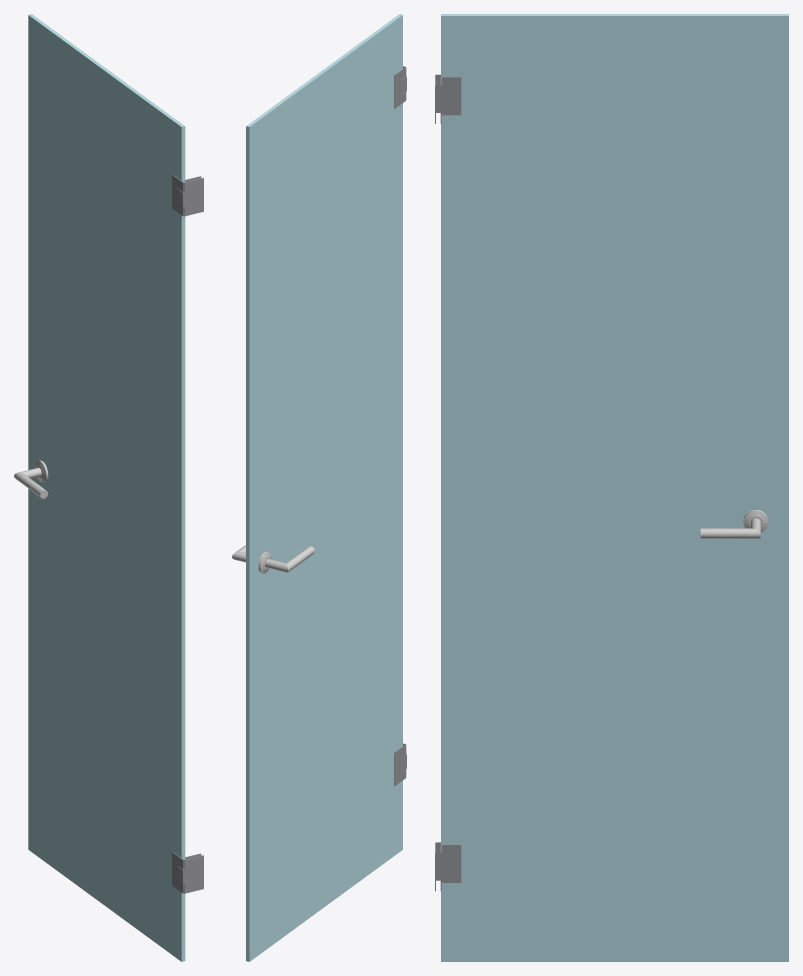
Rendered from Tuere_WC.glb.
3 renders of one model, left to right at view 1: azimuth 30°, elevation 25°; view 2: azimuth 150°, elevation 25°; view 3: azimuth 270°, elevation 25°, orthographic. The views are drawn at different scales.
Parts seen in each view (by area): view 1: Mesh1 Component_204 G_24_T_re_WC_dwg1 Model, Mesh13 Component_216 G_24_T_re_WC_dwg1 Model, Mesh9 Component_212 G_24_T_re_WC_dwg1 Model, Mesh4 Component_207 G_24_T_re_WC_dwg1 Model; view 2: Mesh1 Component_204 G_24_T_re_WC_dwg1 Model, Mesh13 Component_216 G_24_T_re_WC_dwg1 Model; view 3: Mesh1 Component_204 G_24_T_re_WC_dwg1 Model, Mesh12 Component_215 G_24_T_re_WC_dwg1 Model, Mesh5 Component_208 G_24_T_re_WC_dwg1 Model, Mesh10 Component_213 G_24_T_re_WC_dwg1 Model.
Part boxes in pixels (x1=…): Mesh1 Component_204 G_24_T_re_WC_dwg1 Model: x1=28, y1=14, x2=185, y2=961; Mesh13 Component_216 G_24_T_re_WC_dwg1 Model: x1=14, y1=460, x2=48, y2=498; Mesh9 Component_212 G_24_T_re_WC_dwg1 Model: x1=184, y1=178, x2=203, y2=216; Mesh4 Component_207 G_24_T_re_WC_dwg1 Model: x1=184, y1=855, x2=203, y2=893; Mesh1 Component_204 G_24_T_re_WC_dwg1 Model: x1=246, y1=14, x2=402, y2=961; Mesh13 Component_216 G_24_T_re_WC_dwg1 Model: x1=258, y1=546, x2=314, y2=573; Mesh1 Component_204 G_24_T_re_WC_dwg1 Model: x1=441, y1=14, x2=788, y2=961; Mesh12 Component_215 G_24_T_re_WC_dwg1 Model: x1=700, y1=510, x2=768, y2=538; Mesh5 Component_208 G_24_T_re_WC_dwg1 Model: x1=441, y1=844, x2=461, y2=882; Mesh10 Component_213 G_24_T_re_WC_dwg1 Model: x1=441, y1=77, x2=461, y2=115.
Bounding box in the file's own units: 15.86 × 224 × 75.78.
